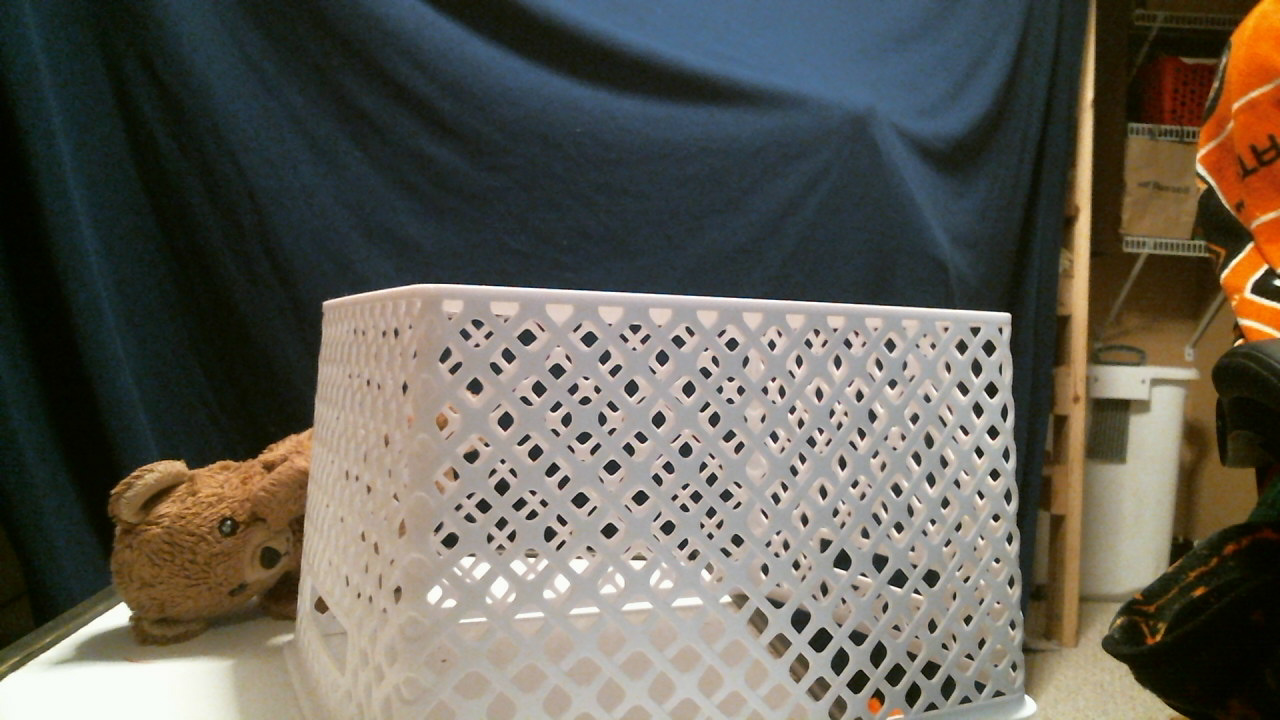Little_Mister_Bear: (215, 521, 297, 605)
